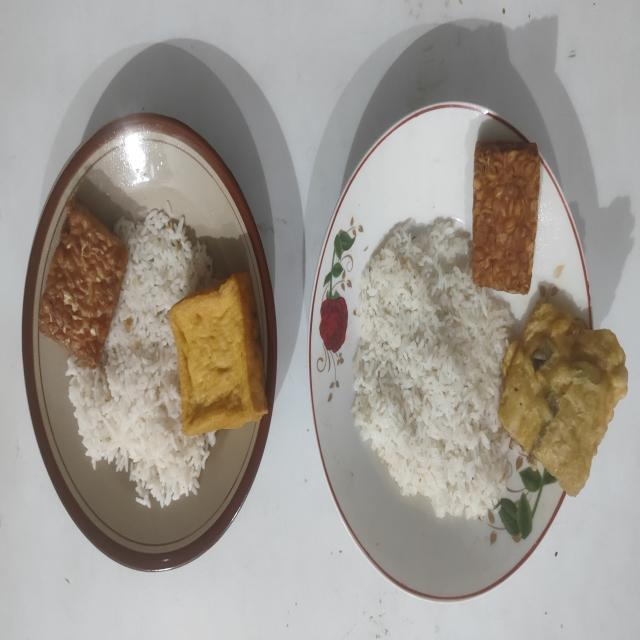nasi_putih: (352, 217, 511, 519), (66, 210, 215, 508)
tahu_goreng: (168, 272, 268, 434)
tempe_goreng: (39, 198, 128, 368), (472, 142, 541, 294)
